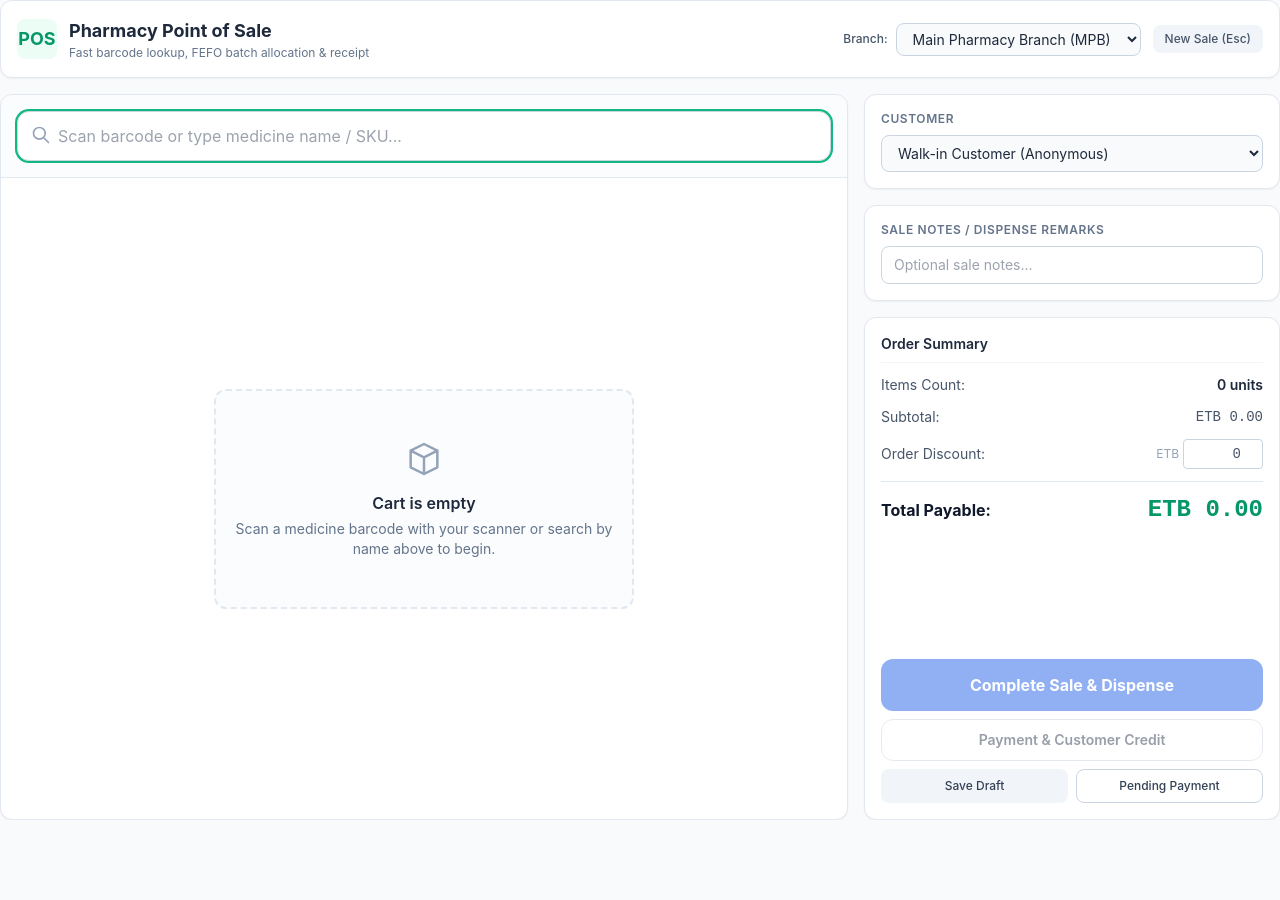
Test: POS & Sales Pages › Product search displays results with stock and pricing, and prevents adding out-of-stock items
Expected: the dropdown showing "Main Pharmacy Branch" is shown, [896,22,1141,56]
In the field with placeholder "Scan barcode or type medicine name / SKU...": (424, 136) [17,111,831,161], type "Paracetamol"
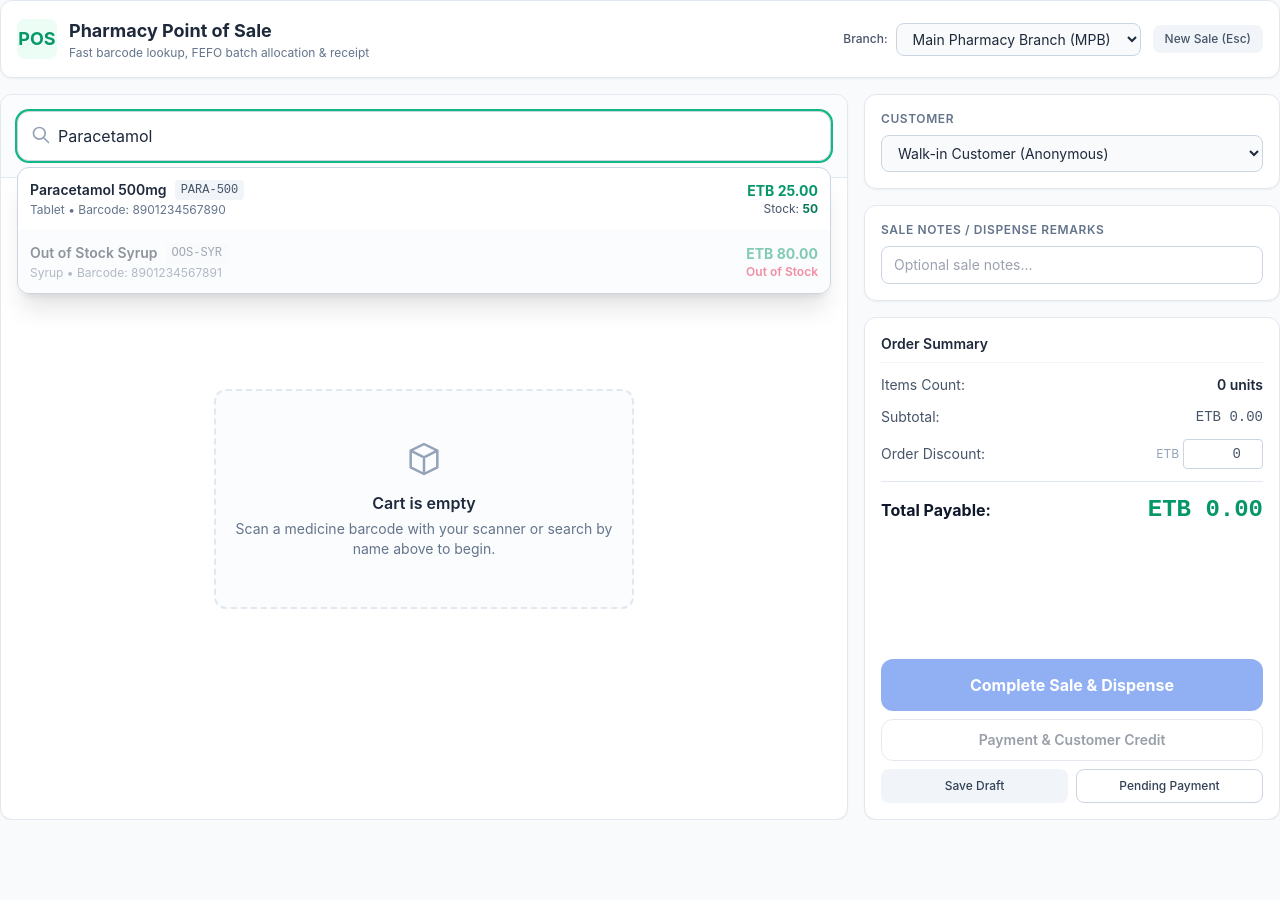
Expected: the text "Paracetamol 500mg" is shown
Expected: the text "Out of Stock Syrup" is shown, [30,243,158,263]
Expected: the text "Stock: 50" is shown, [764,201,818,216]
// Adding in-stock item should put it in the cart
Click the text "Paracetamol 500mg": (98, 190) [30,180,167,200]
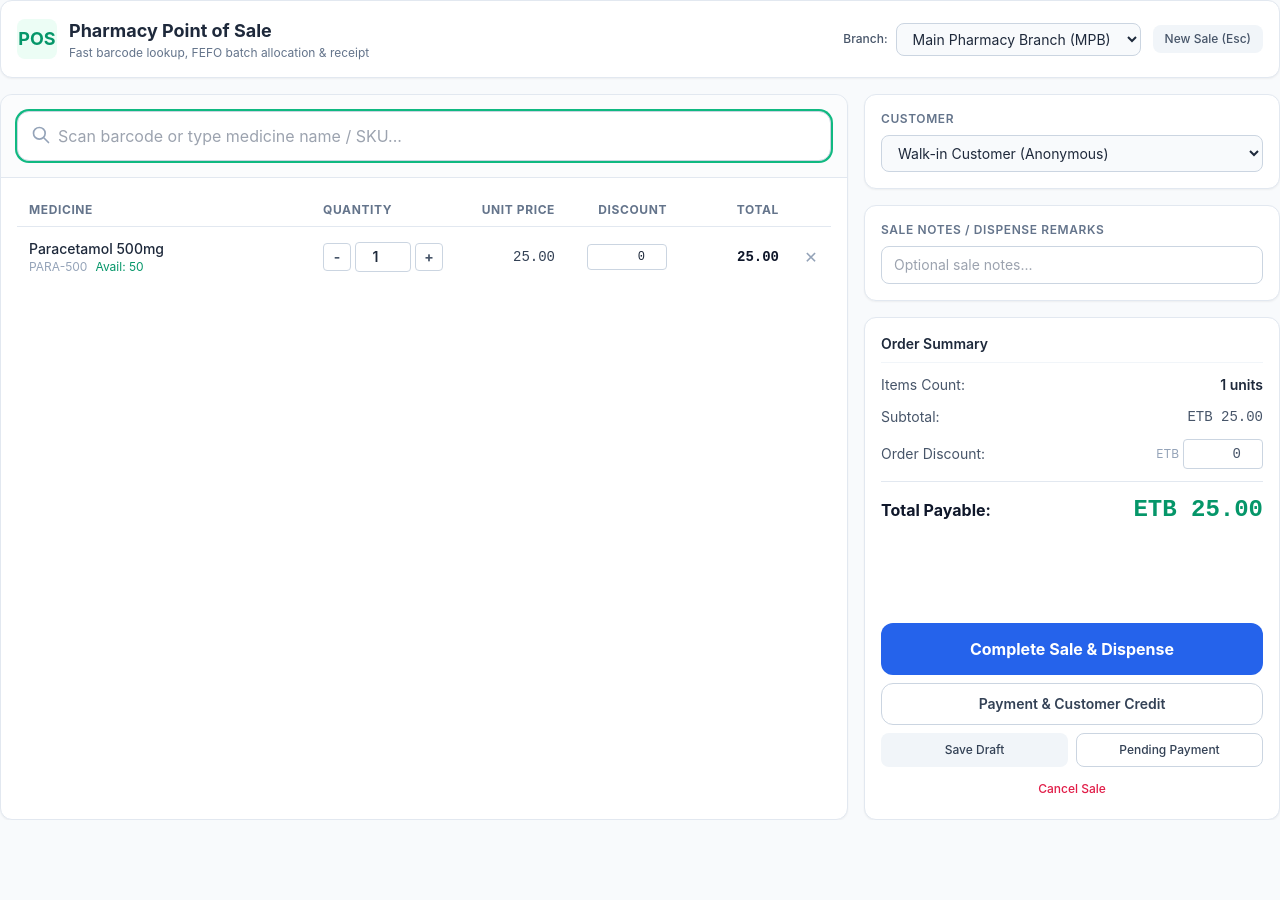
Expected: the text "PARA-500" is shown, [29,259,87,275]
Expected: the heading "Cart is empty" is gone
// Reopen search and test clicking out of stock item
In the field with placeholder "Scan barcode or type medicine name / SKU...": (424, 136) [17,111,831,161], type "Syrup"
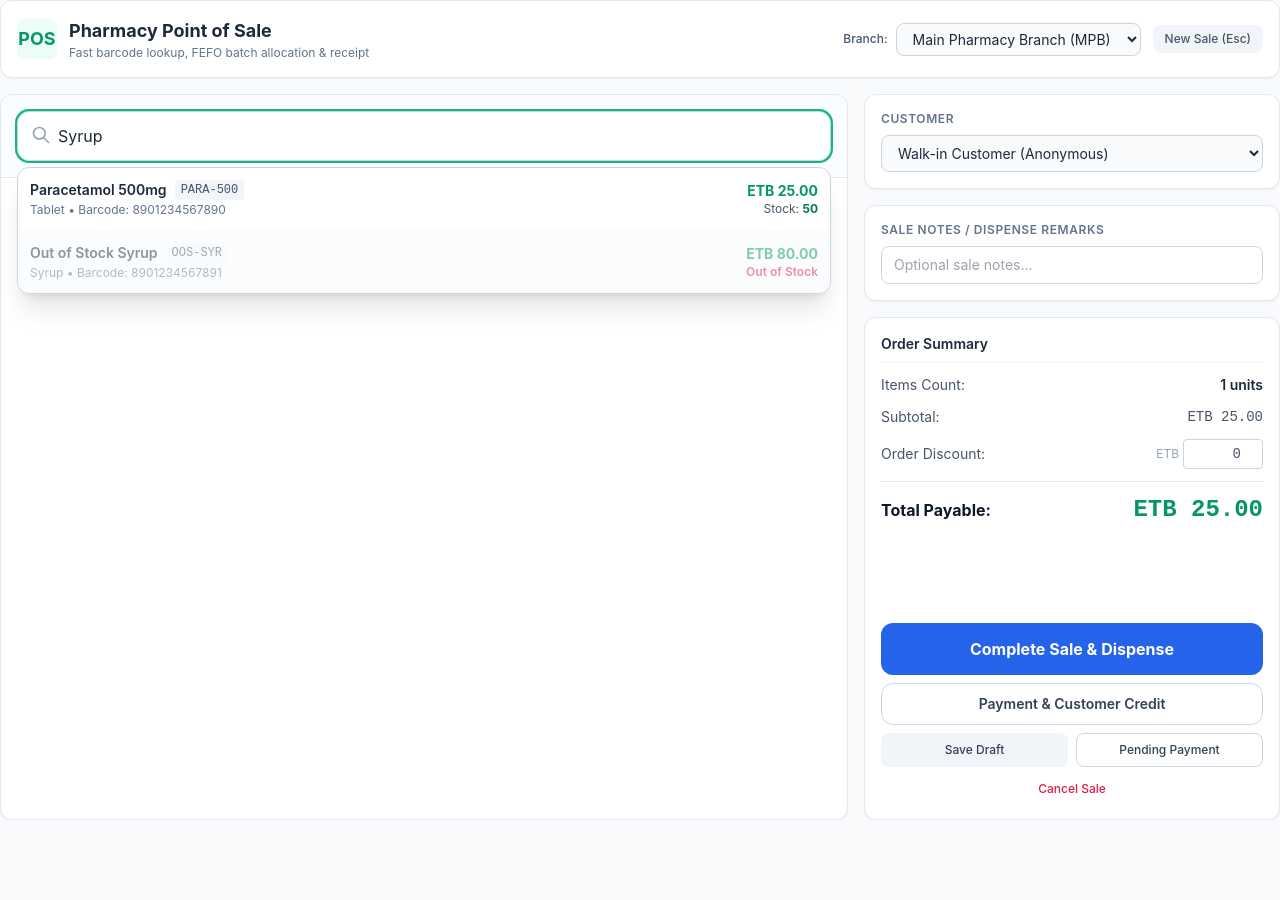
Expected: the text "Out of Stock Syrup" is shown
Click the text "Out of Stock Syrup": (94, 253) [30,243,158,263]
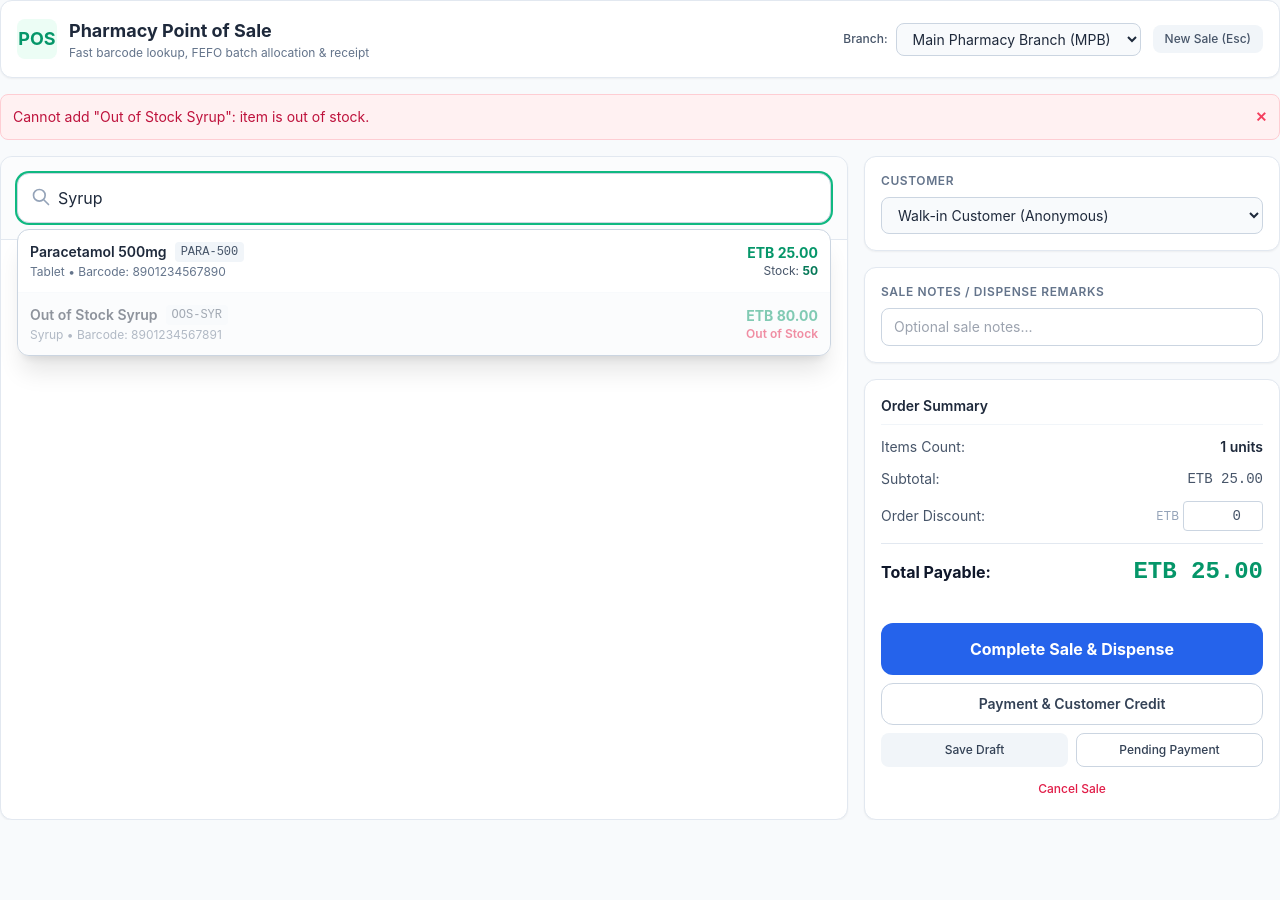
Expected: the text "Cannot add \"Out of Stock Syrup\": item is out of stock." is shown, [13,107,369,127]
